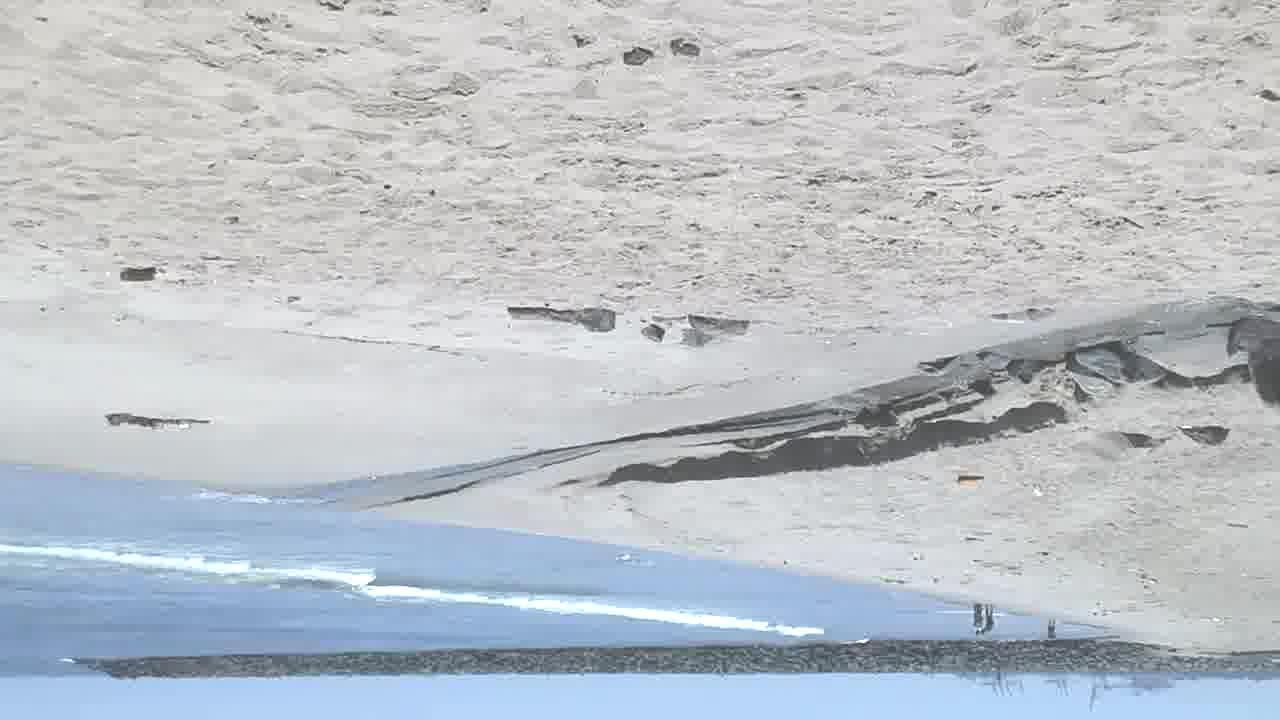large collection of objects: (972, 606, 995, 636), (1048, 620, 1058, 647)
obj: (496, 296, 621, 336), (105, 410, 214, 435), (117, 268, 157, 286), (959, 476, 982, 487)
sand/background: (0, 444, 1279, 719)
